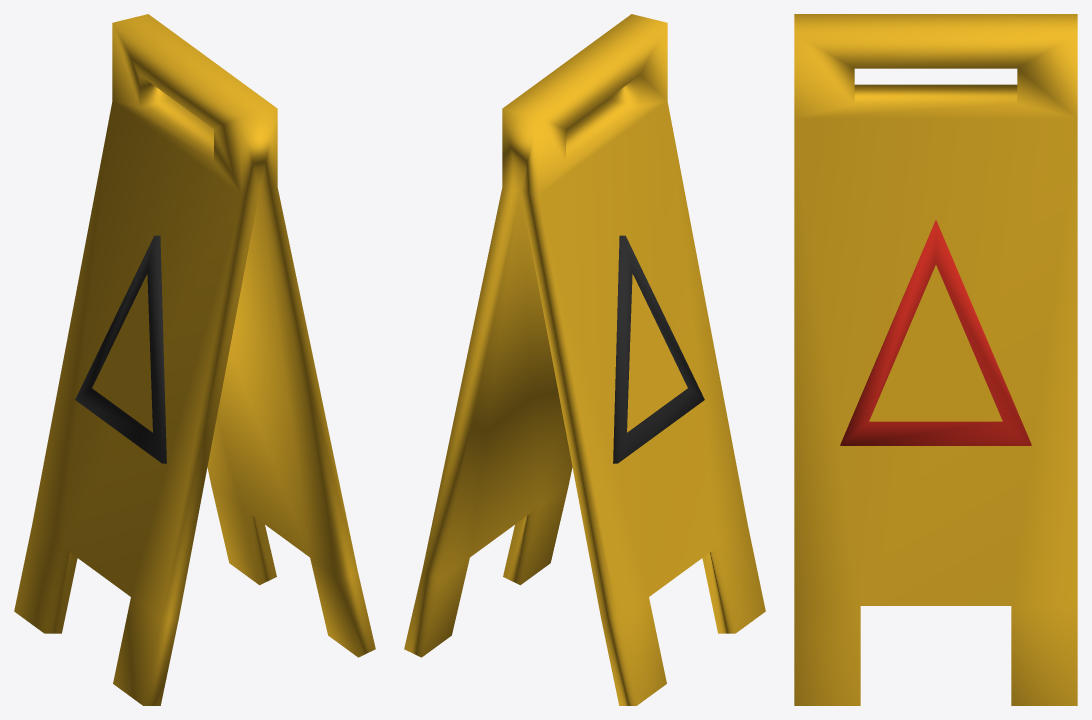
Rendered from mesh_caution_wetfloor.fbx.
3 renders of one model, left to right at view 1: azimuth 30°, elevation 25°; view 2: azimuth 150°, elevation 25°; view 3: azimuth 270°, elevation 25°, orthographic. The views are drawn at different scales.
Parts seen in each view (by area): view 1: mesh_cleaningsignal_01; view 2: mesh_cleaningsignal_01; view 3: mesh_cleaningsignal_01.
Boxes of the visible parts, box(x1,y1,x2,y2) form: mesh_cleaningsignal_01: box(14, 14, 375, 705); mesh_cleaningsignal_01: box(404, 14, 765, 705); mesh_cleaningsignal_01: box(794, 14, 1077, 705).
Size of the model in its own units: 10.18 by 23.8 by 9.79.
